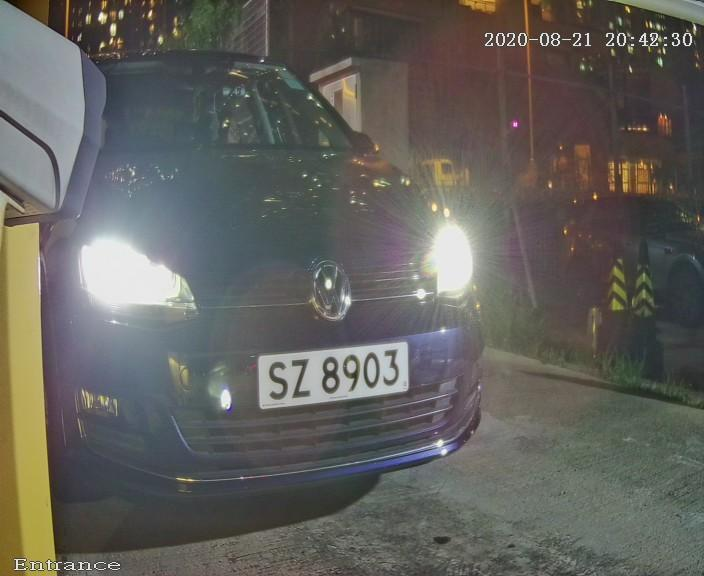Car: (4, 6, 525, 538)
License Plate: (245, 332, 421, 430)
